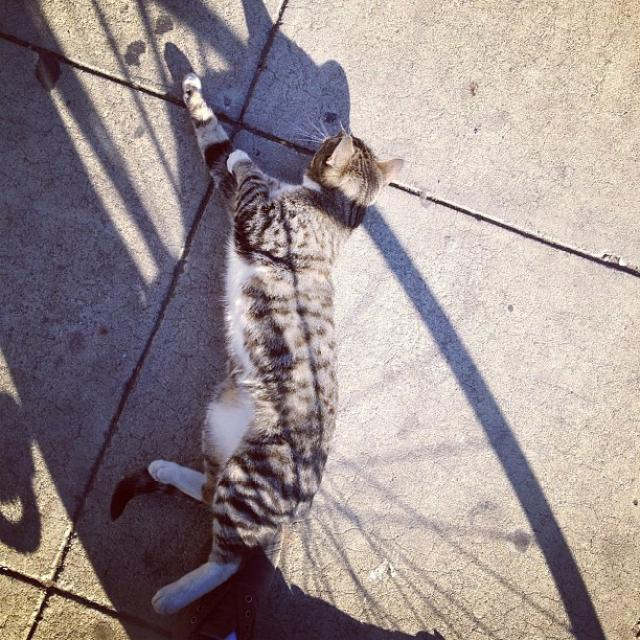cats: (142, 58, 411, 612)
